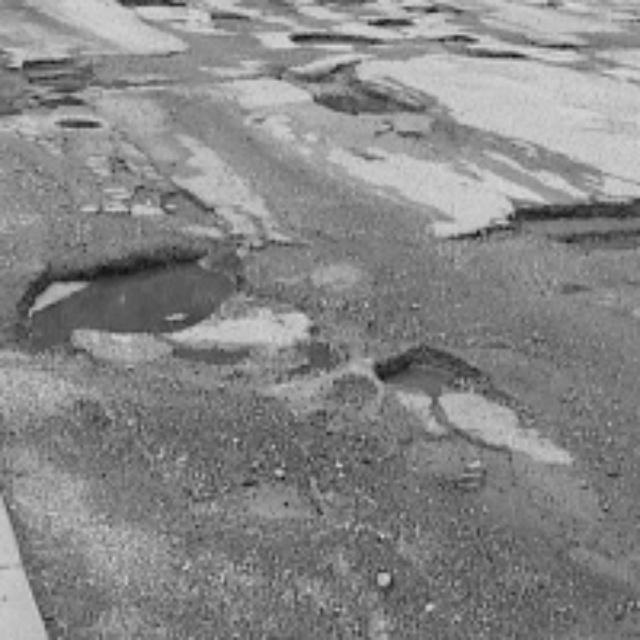Pothole: (27, 226, 316, 393), (358, 323, 554, 490), (506, 168, 640, 270)
Surface Erosion: (0, 0, 640, 640)
